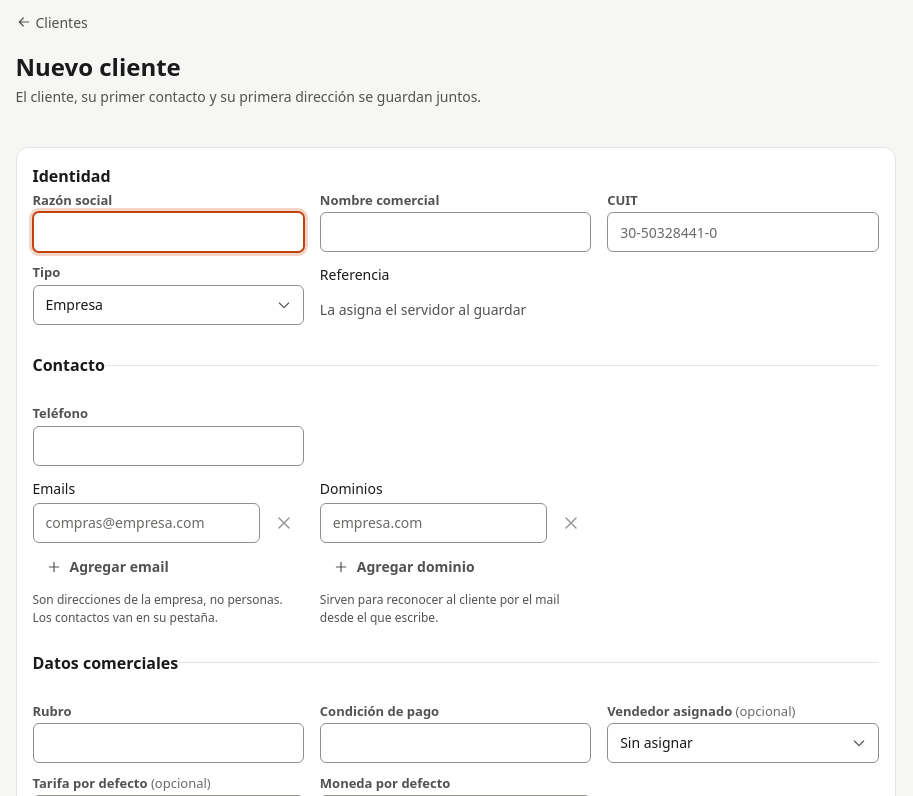
Alta de cliente · duplicados › el mismo email avisa, pero no bloquea: puede ser una sucursal
Step 1. Type "ZZ Cliente Nuevo SA" into the field labelled "Razón social" → (168, 232), box [32,212,304,252]
(page scrolled)
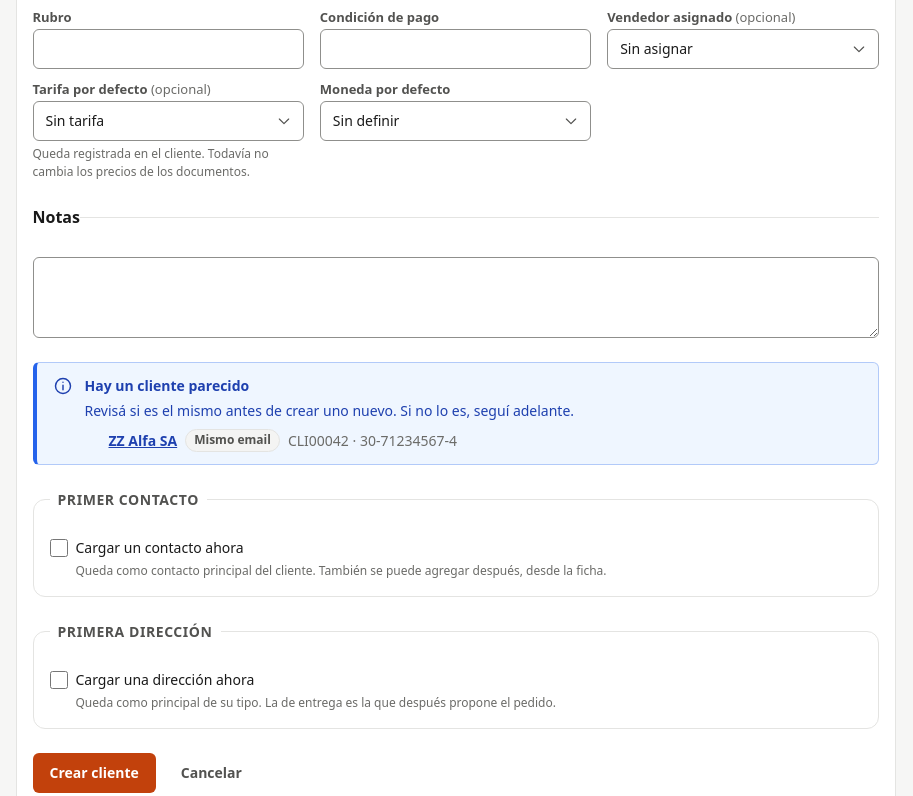
Expected: the message shows "Mismo email", [194,431,271,448]
Now the button "Crear cliente" is enabled, box [32,753,156,793]
